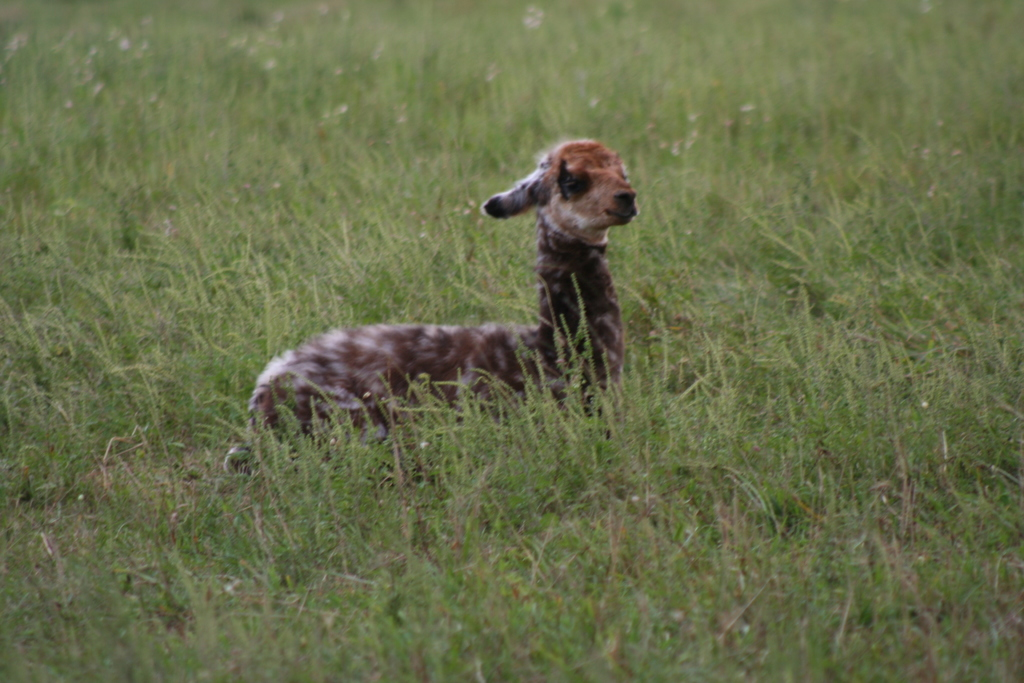person: (478, 139, 637, 412)
